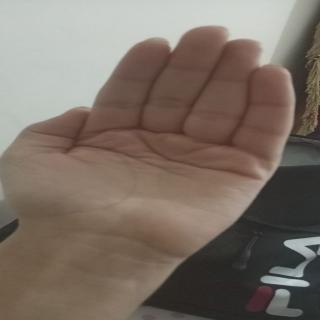SEEN: (0, 23, 302, 247)
